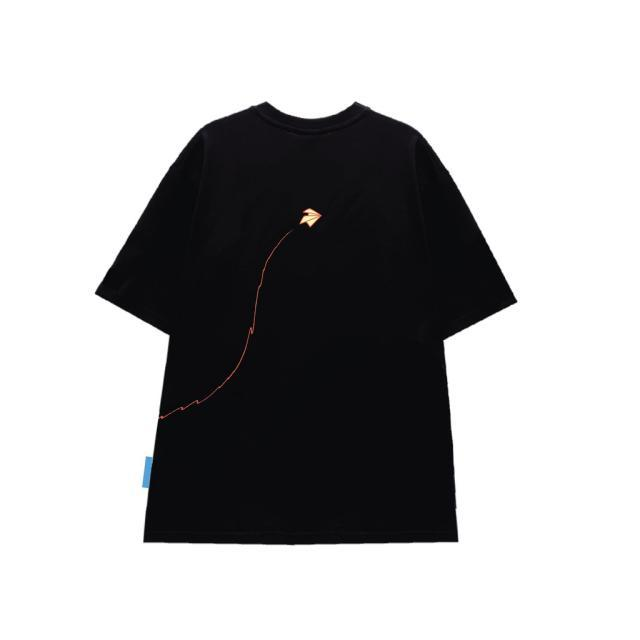Shirt: (92, 94, 519, 544)
